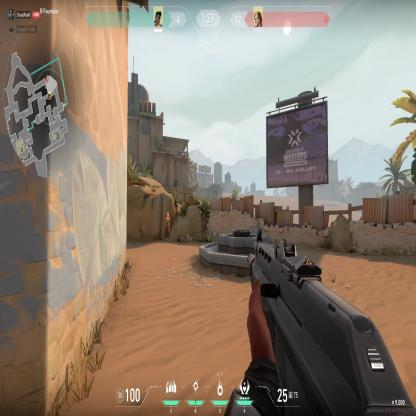enemy: (164, 211, 171, 242)
